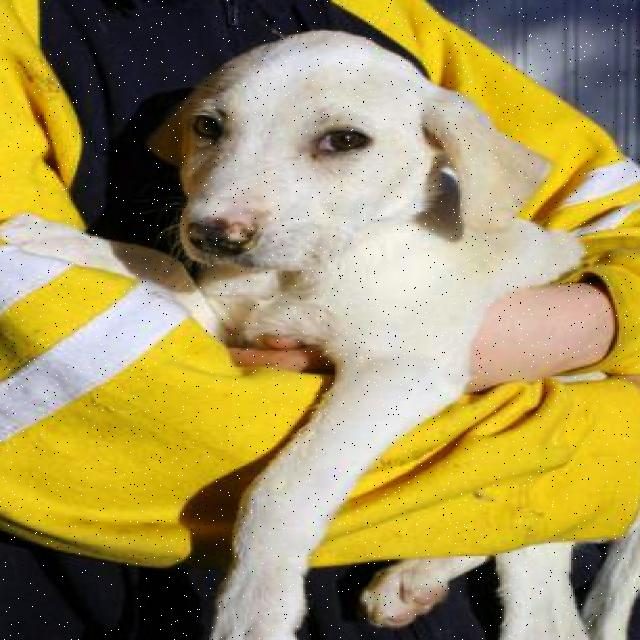Dog: (144, 26, 535, 275)
